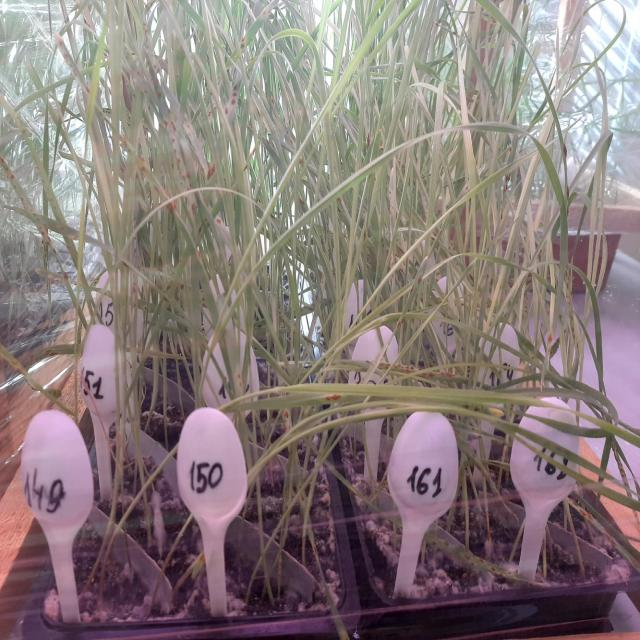wheat-stemrust: (1, 154, 73, 295), (98, 105, 169, 202), (144, 47, 190, 190), (54, 33, 91, 95), (224, 71, 245, 127), (309, 387, 366, 404), (228, 356, 245, 395), (205, 154, 219, 185), (167, 201, 178, 219)
